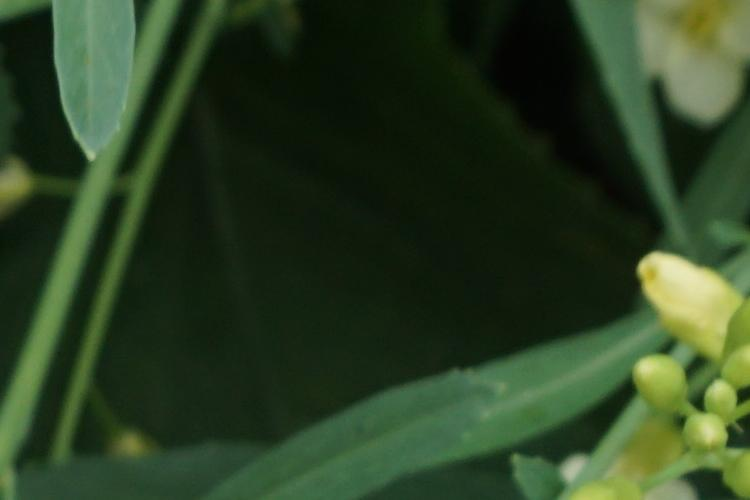bud: (638, 356, 691, 414), (680, 414, 733, 460), (695, 379, 744, 419), (722, 349, 750, 397)
